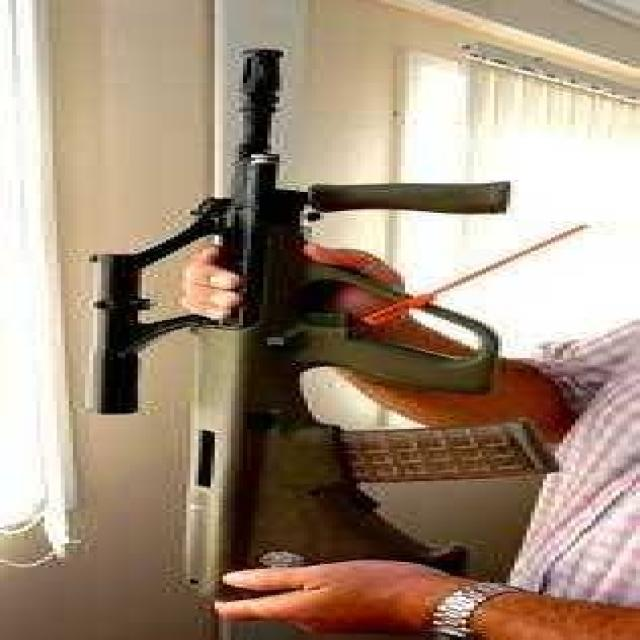RifleTel: (0, 36, 567, 635)
